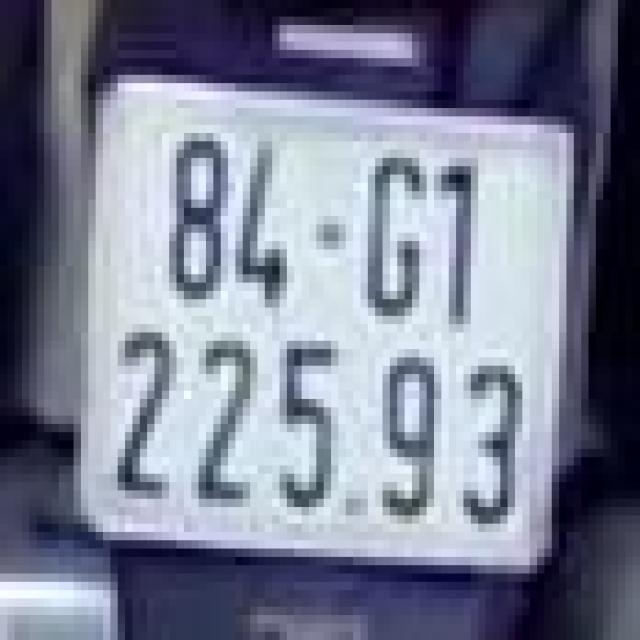1: (434, 154, 478, 336)
2: (198, 337, 258, 511), (118, 324, 169, 499)
3: (460, 362, 526, 528)
4: (239, 133, 298, 308)
5: (280, 336, 338, 520)
8: (158, 133, 232, 308)
9: (376, 349, 442, 524)
G: (361, 146, 426, 328)
